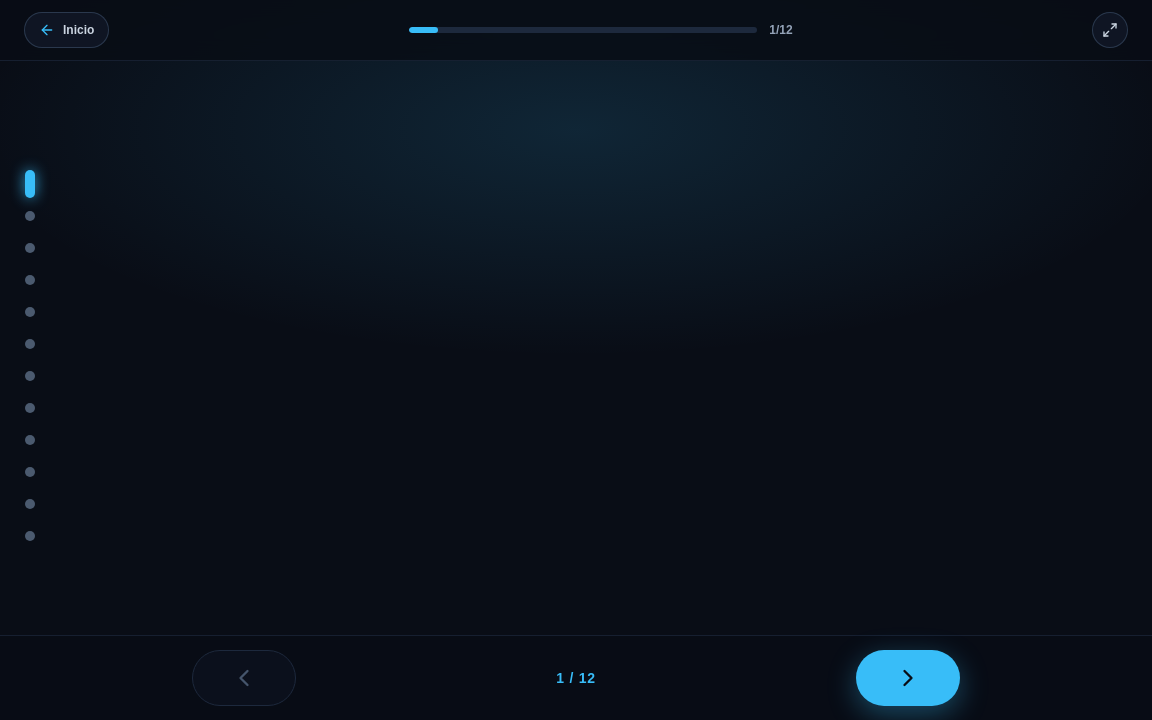
Test case: DEMO competition presentation › enforces 1.5s arrow cooldown and plays exit phase before mounting next slide
Later steps or results of the test are not shown.
Step 1. Click the button named "Siguiente diapositiva" → x=908, y=678, box [856, 650, 960, 706]
Wait 700 ms
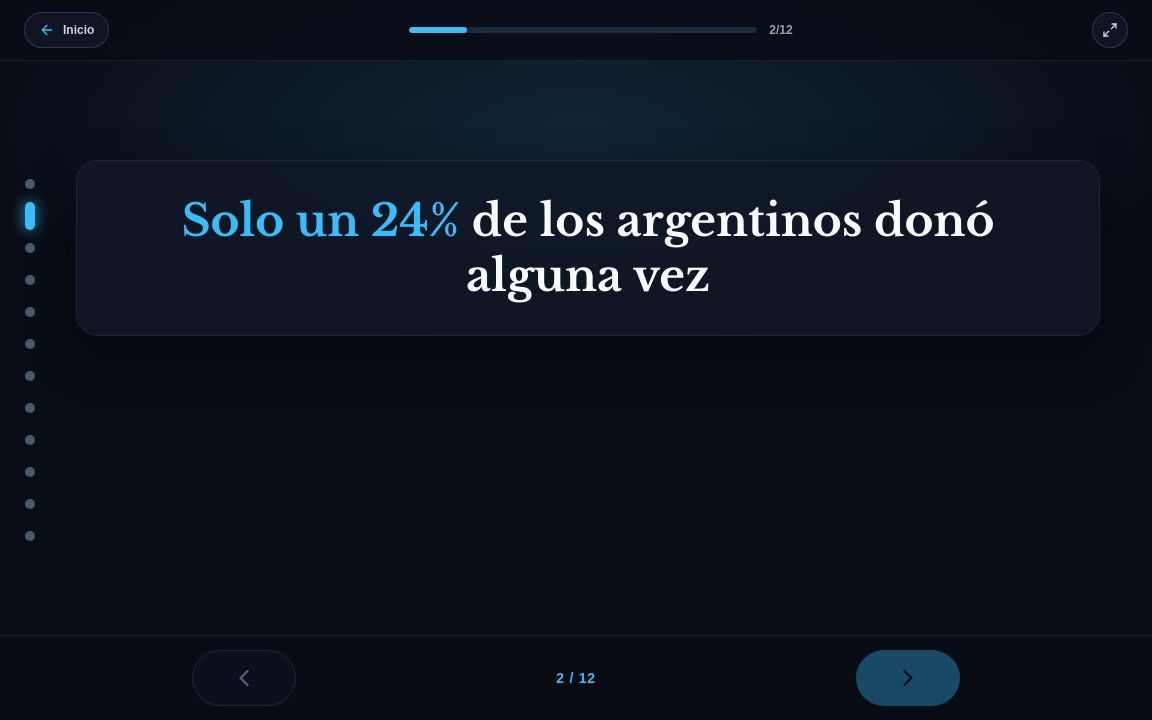
Now the heading "Solo un 24% de los argentinos donó alguna vez" is shown, box [181, 193, 995, 303]
Step 2. Click the button named "Siguiente diapositiva" → x=908, y=678, box [856, 650, 960, 706]
Wait 1300 ms
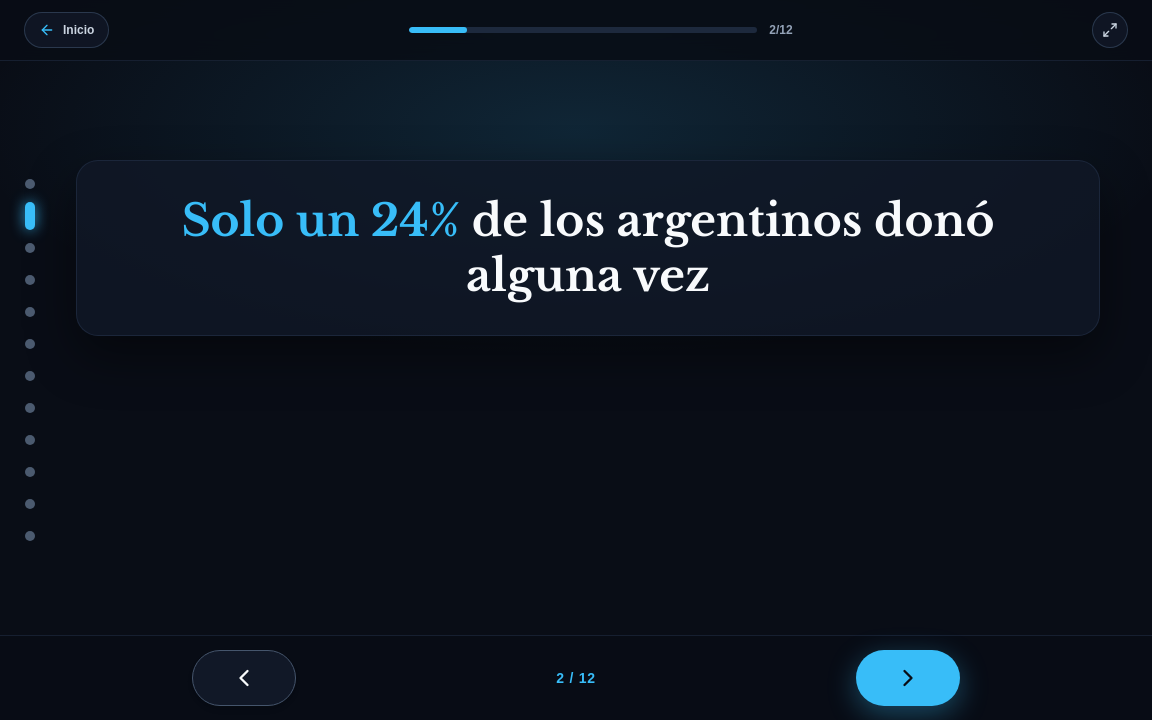
Now the heading "Solo un 24% de los argentinos donó alguna vez" is shown, box [181, 193, 995, 303]
Step 3. Click the button named "Siguiente diapositiva" → x=908, y=678, box [856, 650, 960, 706]
Wait 400 ms
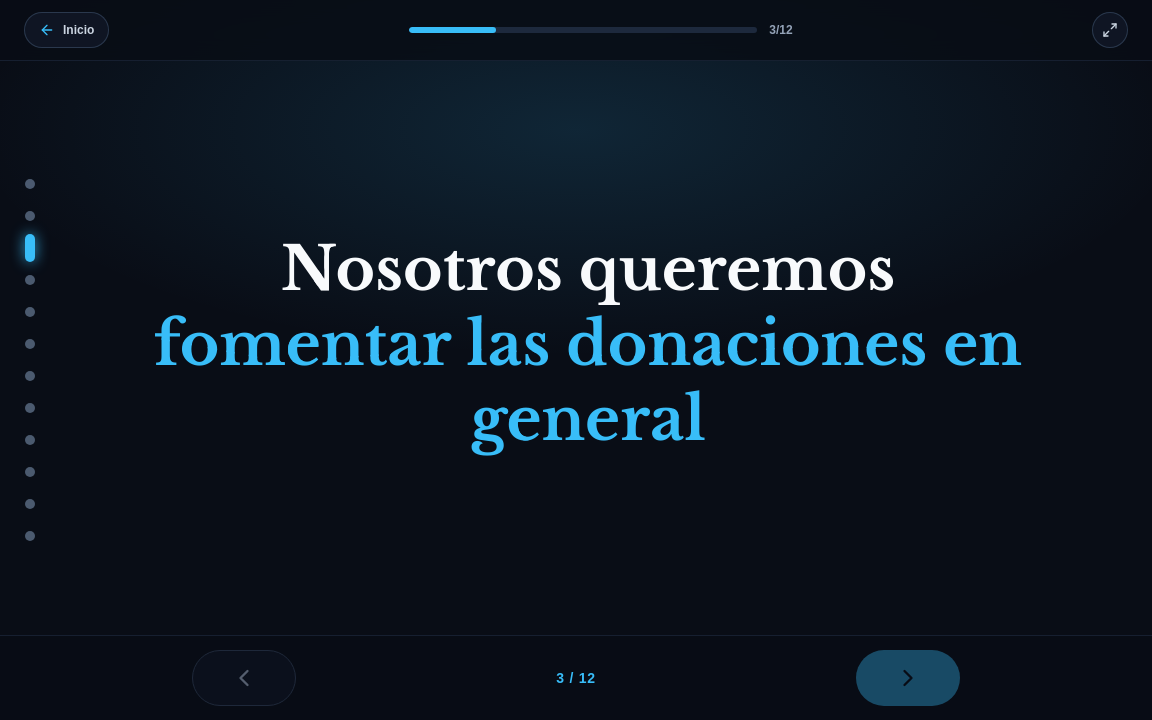
Now the heading "Nosotros queremos fomentar las donaciones en general" is shown, box [140, 232, 1036, 464]
